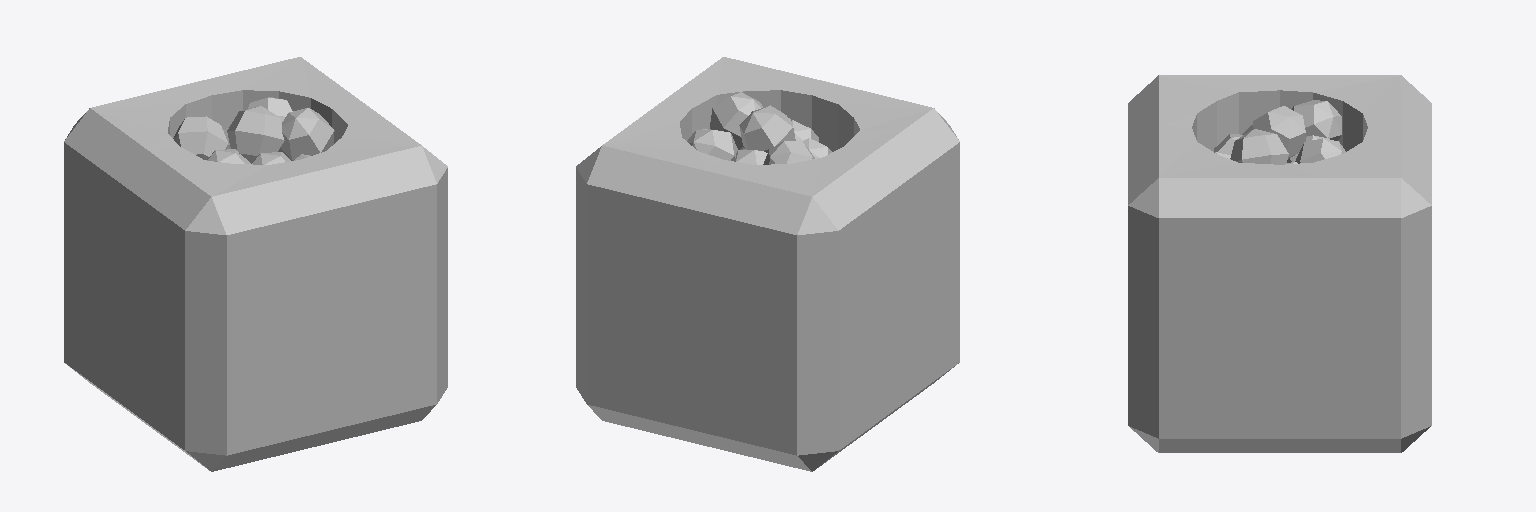
The model's file is Object_Chest.obj.
The picture shows the model from 3 angles: view 1: azimuth 30°, elevation 25°; view 2: azimuth 150°, elevation 25°; view 3: azimuth 270°, elevation 25°; orthographic projection.
Parts seen in each view (by area): view 1: pSphere13; view 2: pSphere13; view 3: pSphere13.
Part boxes in pixels (left/top/right/bottom): pSphere13: left=64, top=57, right=447, bottom=471; pSphere13: left=576, top=57, right=959, bottom=471; pSphere13: left=1128, top=75, right=1431, bottom=452.
Size of the model in its own units: 0.2 by 0.2121 by 0.2.